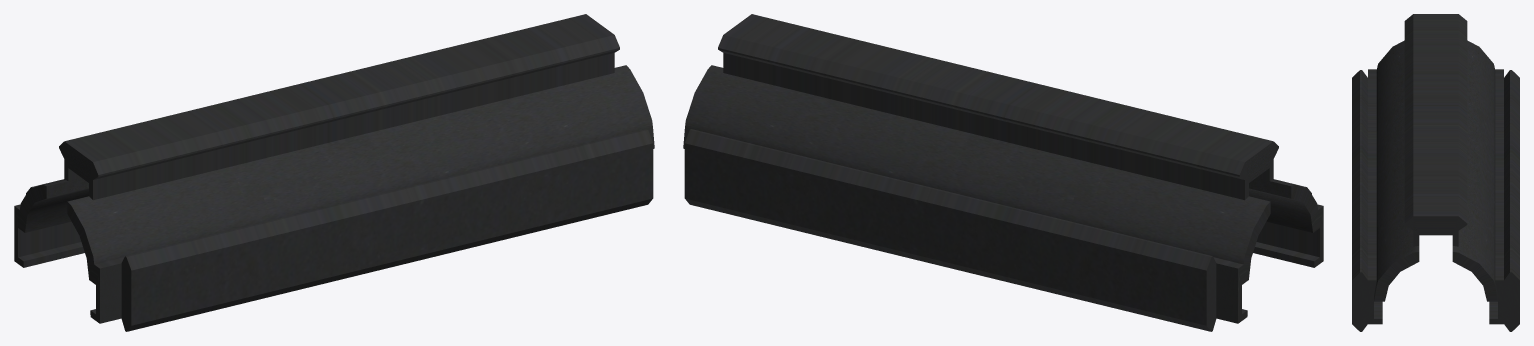
File: Upper_Handguard.dae
3 views of the same model, side by side, from view 1: azimuth 30°, elevation 25°; view 2: azimuth 150°, elevation 25°; view 3: azimuth 270°, elevation 25° (orthographic). The views are drawn at different scales.
Parts seen in each view (by area): view 1: Upper_Handguard; view 2: Upper_Handguard; view 3: Upper_Handguard.
Boxes of the visible parts, x1=… form: Upper_Handguard: x1=14, y1=14, x2=654, y2=331; Upper_Handguard: x1=683, y1=14, x2=1323, y2=331; Upper_Handguard: x1=1352, y1=14, x2=1519, y2=331.
Bounding box in the file's own units: 0.163 × 0.0533 × 0.0405.
1 material, 1 textured.
